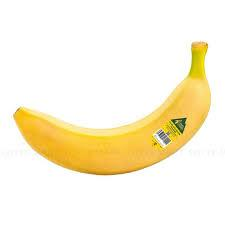banana: (9, 49, 224, 187)
